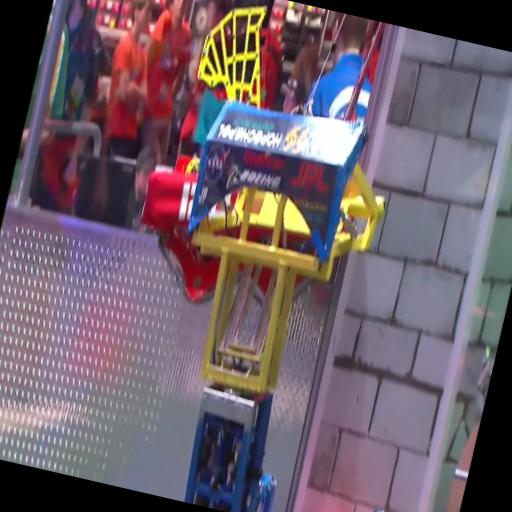robot: (104, 93, 469, 512)
